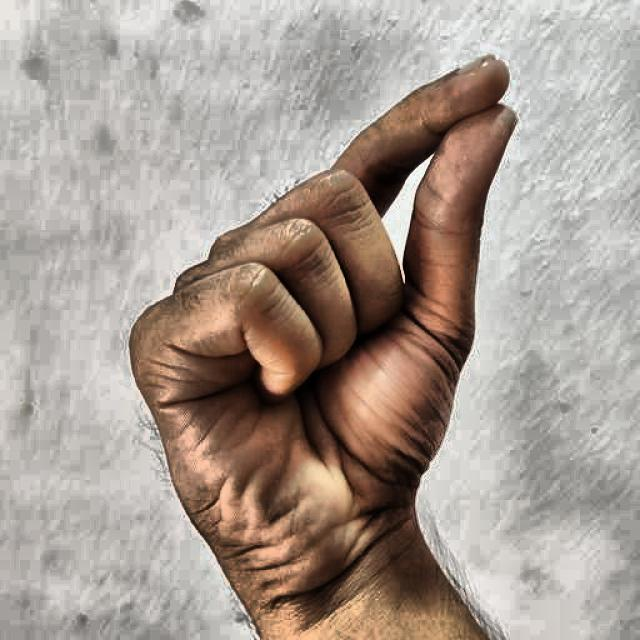Anusshar: (113, 21, 545, 627)
